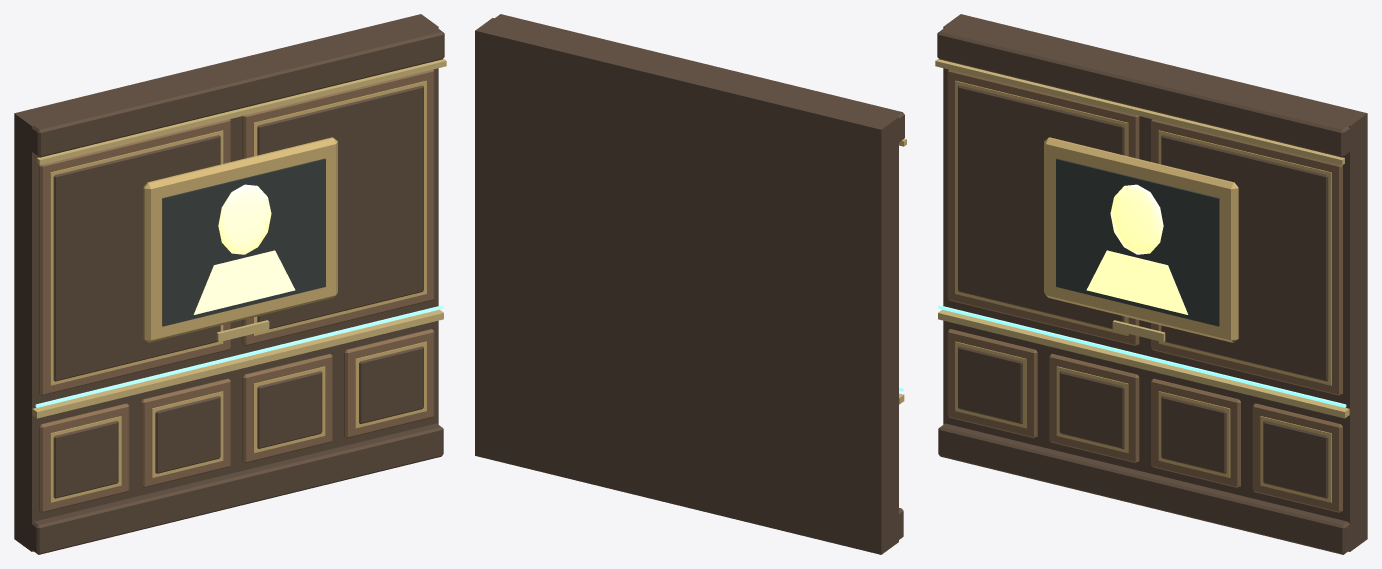
The model's file is wall_ex_art.glb.
3 views of the same model, side by side, from view 1: azimuth 30°, elevation 25°; view 2: azimuth 150°, elevation 25°; view 3: azimuth 330°, elevation 25° (orthographic).
Visible parts, largest first — view 1: wall_ex_art; view 2: wall_ex_art; view 3: wall_ex_art.
Part boxes in pixels (x1,y1,x2,y2): wall_ex_art: (14, 14, 446, 554); wall_ex_art: (475, 14, 906, 554); wall_ex_art: (935, 14, 1367, 554).
Size of the model in its own units: 4 by 4 by 0.496.
